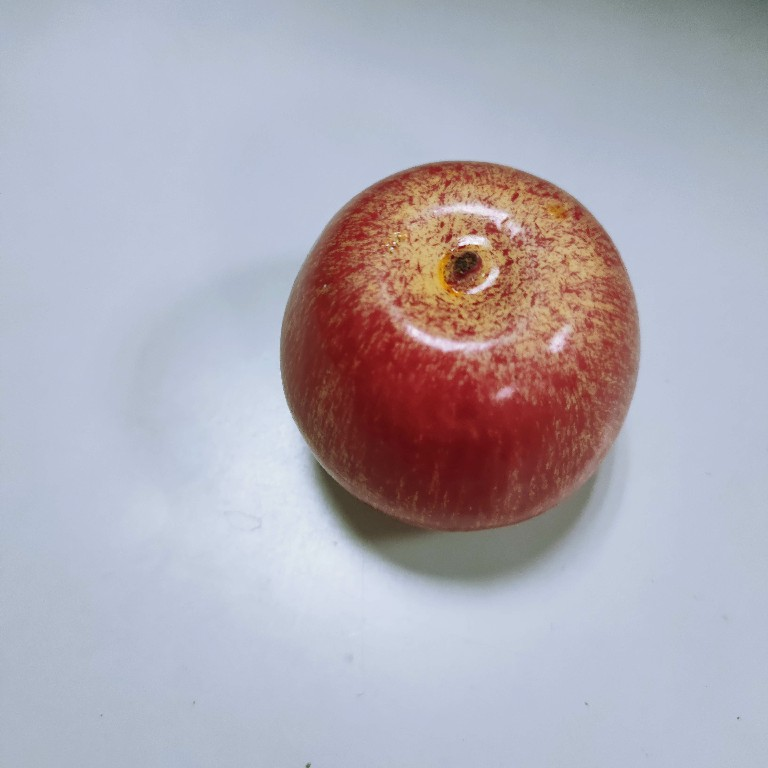fruit_apple: (275, 155, 648, 538)
